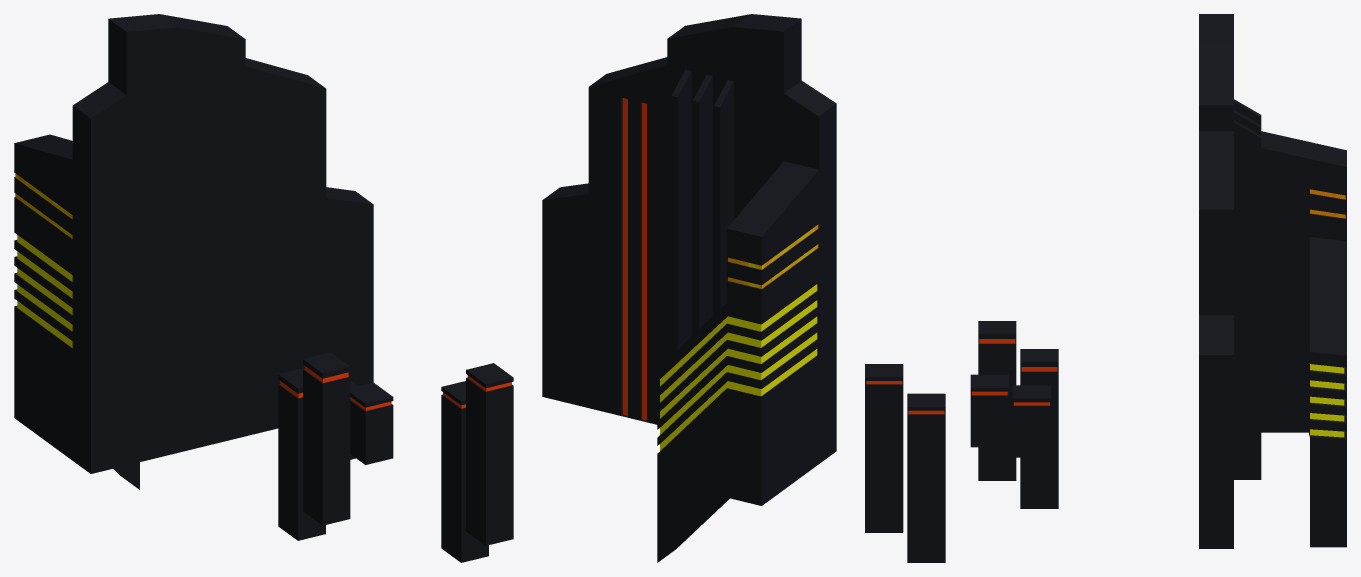
Rendered from test_decor_4.fbx.
3 views of the same model, side by side, from view 1: azimuth 30°, elevation 25°; view 2: azimuth 150°, elevation 25°; view 3: azimuth 270°, elevation 25° (orthographic). The views are drawn at different scales.
Visible parts, largest first — view 1: Cube.038, Cube.028, Cube.030, Cube.027; view 2: Cube.038; view 3: Cube.038, Cube.028, Cube.030, Cube.027.
Part boxes in pixels (left/top/right/bottom): Cube.038: left=14, top=14, right=373, bottom=489; Cube.028: left=441, top=363, right=513, bottom=562; Cube.030: left=278, top=352, right=350, bottom=540; Cube.027: left=350, top=381, right=393, bottom=464; Cube.038: left=542, top=14, right=836, bottom=562; Cube.038: left=1199, top=14, right=1346, bottom=548; Cube.028: left=865, top=364, right=945, bottom=562; Cube.030: left=978, top=321, right=1058, bottom=508; Cube.027: left=970, top=374, right=1050, bottom=457.
Size of the model in its own units: 3982 by 6969 by 6087.
